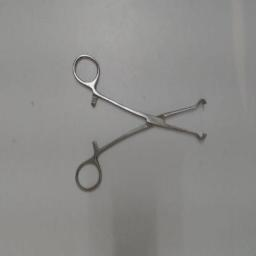Babcock Tissue Forceps: (70, 50, 210, 198)
